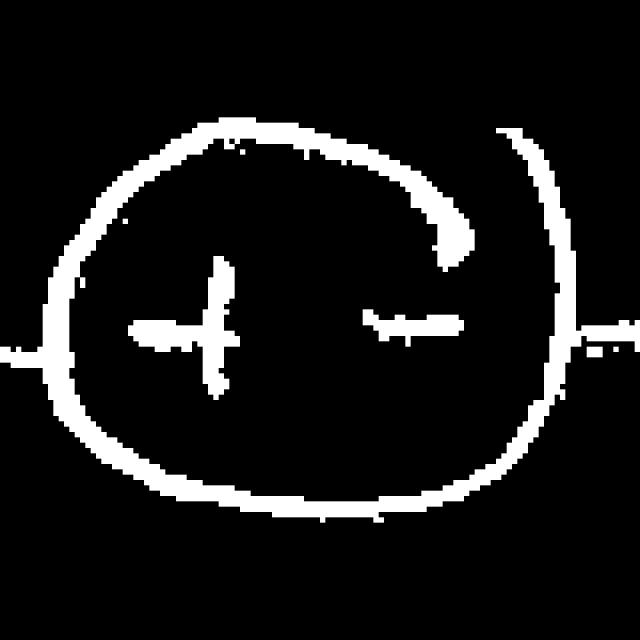voltage_source: (35, 103, 599, 530)
